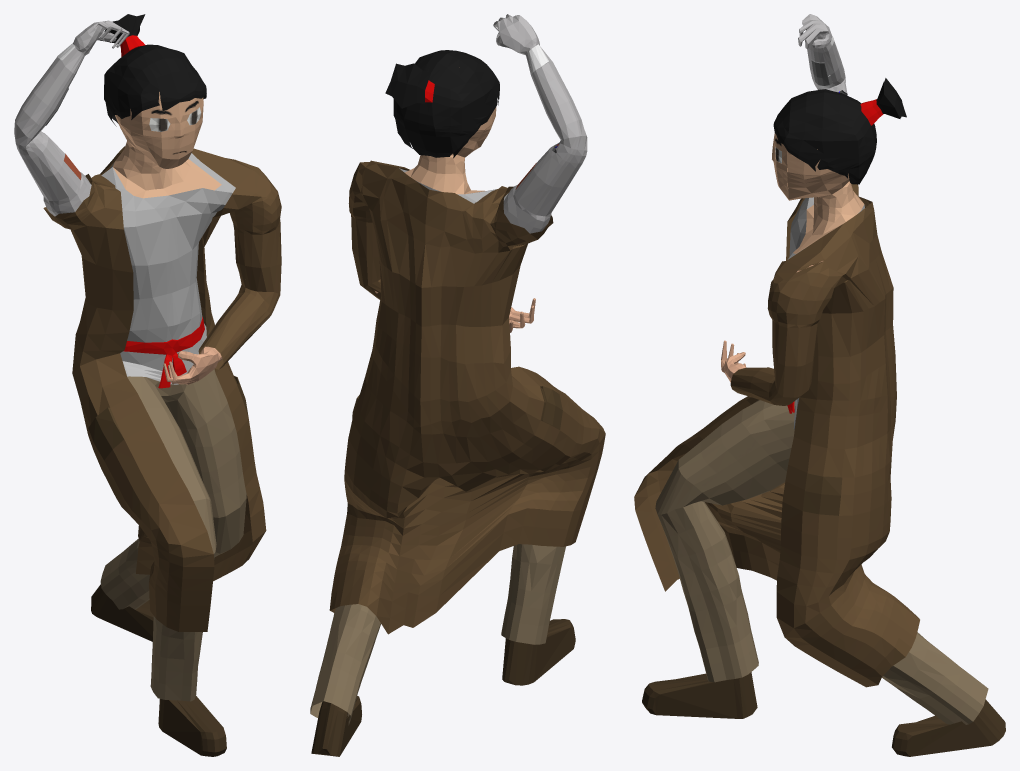
The model's file is Special_Attack_000016.obj.
The picture shows the model from 3 angles, left to right: view 1: azimuth 30°, elevation 25°; view 2: azimuth 150°, elevation 25°; view 3: azimuth 270°, elevation 25°; orthographic projection. The views are drawn at different scales.
Parts seen in each view (by area): view 1: Hair_Cube.004; view 2: Hair_Cube.004; view 3: Hair_Cube.004.
Part boxes in pixels (x1,y1,x2,y2): Hair_Cube.004: [14, 14, 281, 756]; Hair_Cube.004: [310, 14, 605, 756]; Hair_Cube.004: [634, 14, 1005, 756].
Bounding box in the file's own units: 1.38 × 3.71 × 1.83.
